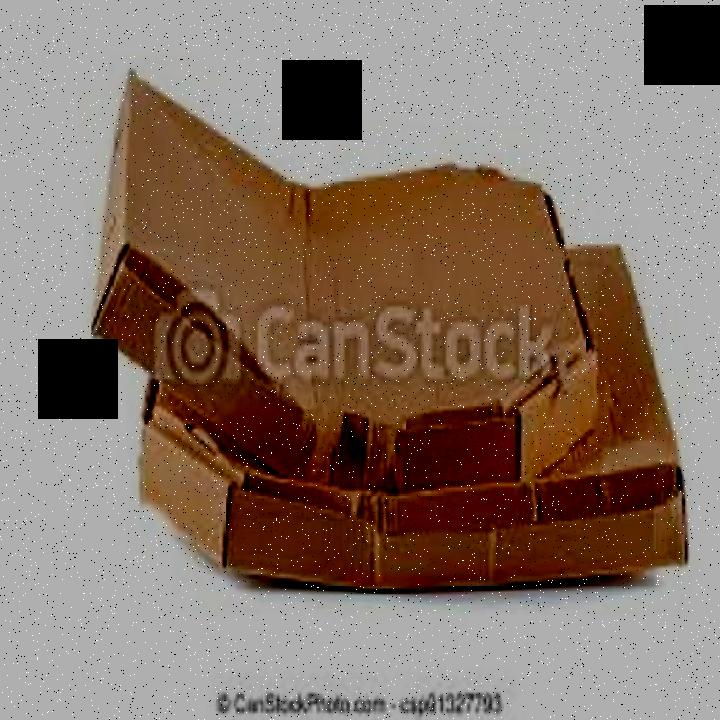box: (75, 69, 598, 481)
